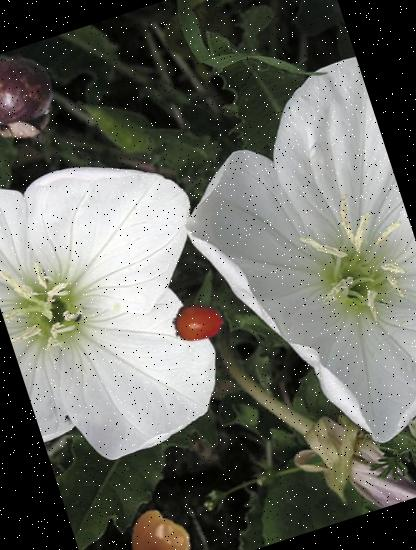Kaki: (165, 289, 231, 354)
Mangostan: (0, 42, 73, 158)
Pepper: (120, 505, 199, 550)
